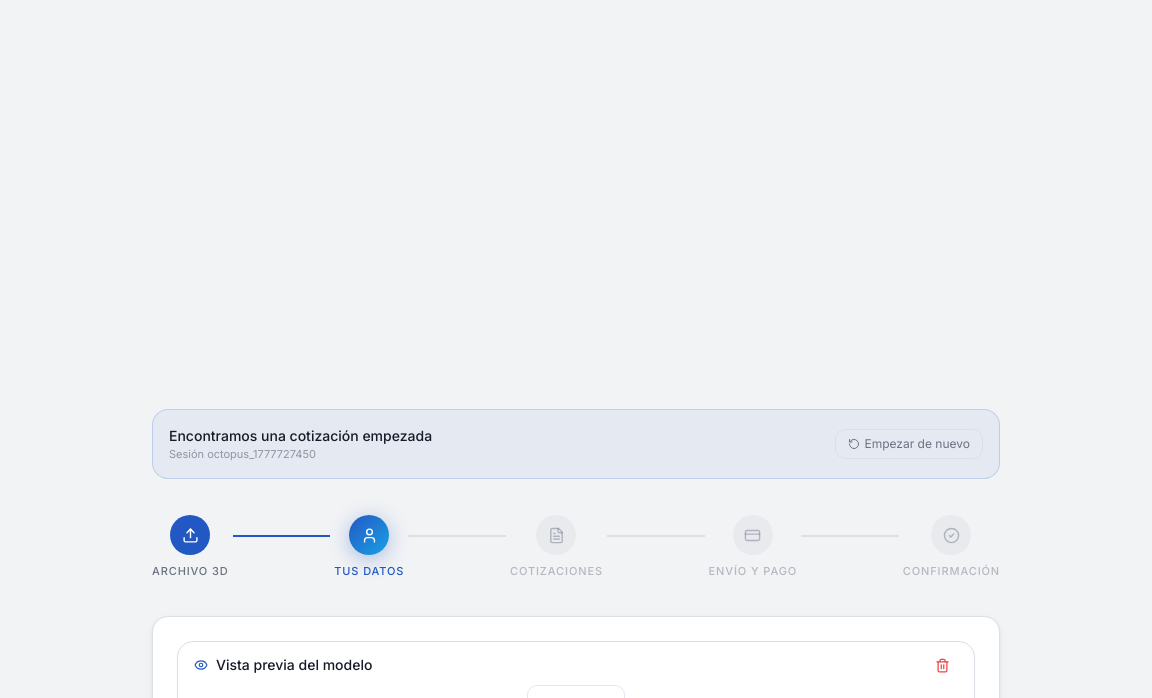
QuoteSection saved upload restore › clears a restored step 2 upload from the preview trash button
This screenshot has width=1152, height=698.
Expected: the text "Tus datos" is shown, [334,564,404,578]
Step 1. Click the button named "quitar archivo" → x=942, y=665, box [927,654,958,677]
(page scrolled)
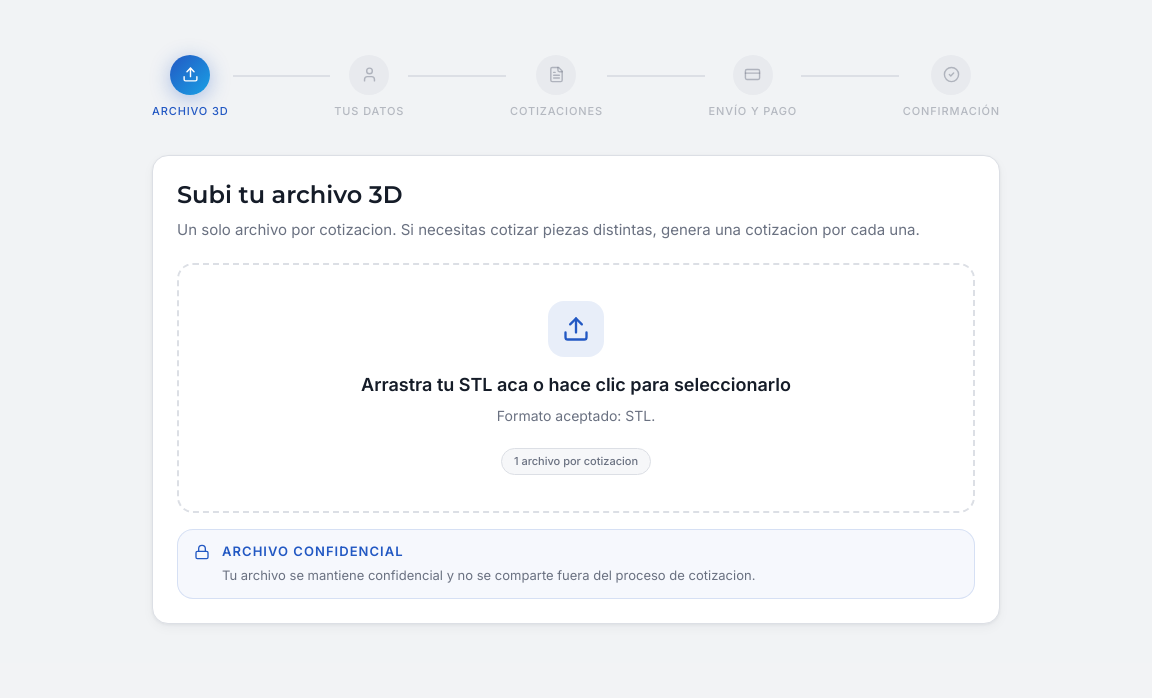
Expected: the text "Arrastra tu STL aca o hace clic para seleccionarlo" is shown, [361,373,791,398]
